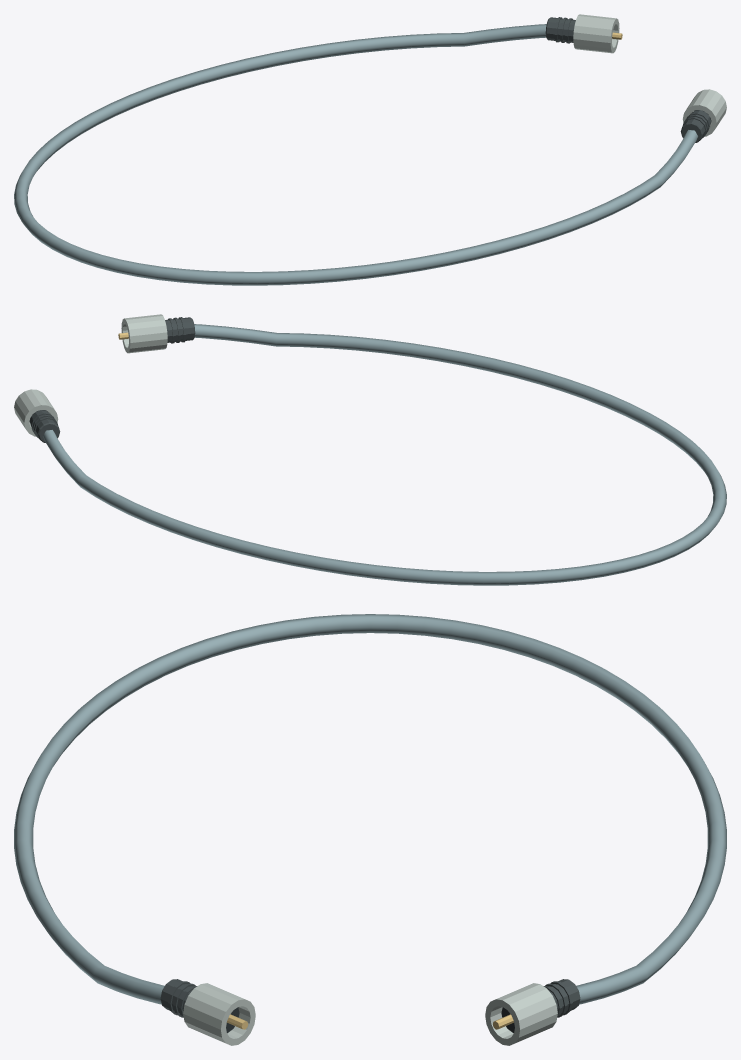
File: asset.glb
3 renders of one model, top to bottom at view 1: azimuth 30°, elevation 25°; view 2: azimuth 150°, elevation 25°; view 3: azimuth 270°, elevation 25°, orthographic. The views are drawn at different scales.
Parts seen in each view (by area): view 1: signal-cable.body, signal-cable.connector_a, signal-cable.connector_b, signal-cable.boot_a; view 2: signal-cable.body, signal-cable.connector_b, signal-cable.connector_a, signal-cable.boot_b; view 3: signal-cable.body, signal-cable.connector_a, signal-cable.connector_b.
Boxes of the visible parts, bbox=[...] form: signal-cable.body: bbox=[14, 24, 697, 285]; signal-cable.connector_a: bbox=[573, 14, 619, 53]; signal-cable.connector_b: bbox=[682, 89, 726, 136]; signal-cable.boot_a: bbox=[545, 17, 575, 42]; signal-cable.body: bbox=[43, 324, 726, 585]; signal-cable.connector_b: bbox=[121, 314, 167, 353]; signal-cable.connector_a: bbox=[14, 389, 58, 436]; signal-cable.boot_b: bbox=[165, 317, 195, 342]; signal-cable.body: bbox=[14, 614, 726, 1004]; signal-cable.connector_a: bbox=[485, 983, 557, 1045]; signal-cable.connector_b: bbox=[183, 983, 255, 1045].
Size of the model in its own units: 0.2658 by 0.0146 by 0.1857.
